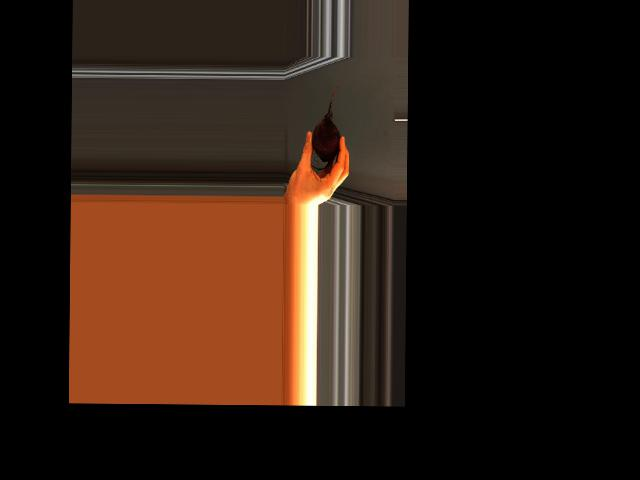beet: (311, 81, 340, 169)
